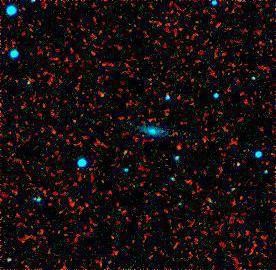star: (164, 132, 194, 162)
